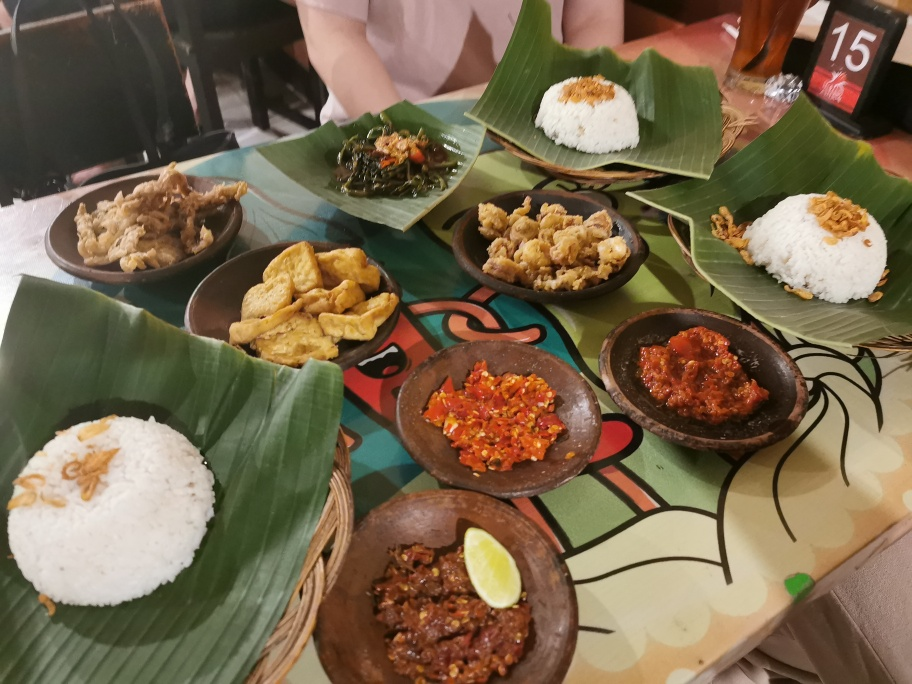nasi putih: (8, 412, 215, 610), (740, 183, 892, 308), (533, 69, 644, 158)
